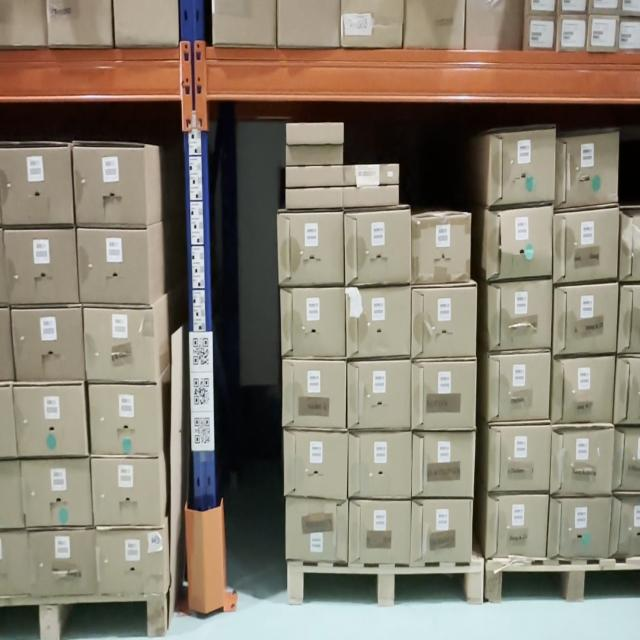box: (279, 215, 343, 282), (414, 292, 476, 359), (282, 362, 344, 428), (347, 215, 409, 280), (349, 292, 410, 358), (349, 366, 412, 428), (287, 434, 349, 496), (281, 292, 344, 351), (351, 436, 410, 498), (415, 366, 475, 426), (286, 501, 345, 560), (414, 434, 473, 493), (414, 219, 471, 277), (414, 506, 469, 562), (351, 508, 408, 562), (284, 167, 344, 185), (347, 166, 400, 186), (286, 125, 345, 142), (288, 191, 342, 209), (285, 147, 341, 164), (347, 189, 399, 207)
